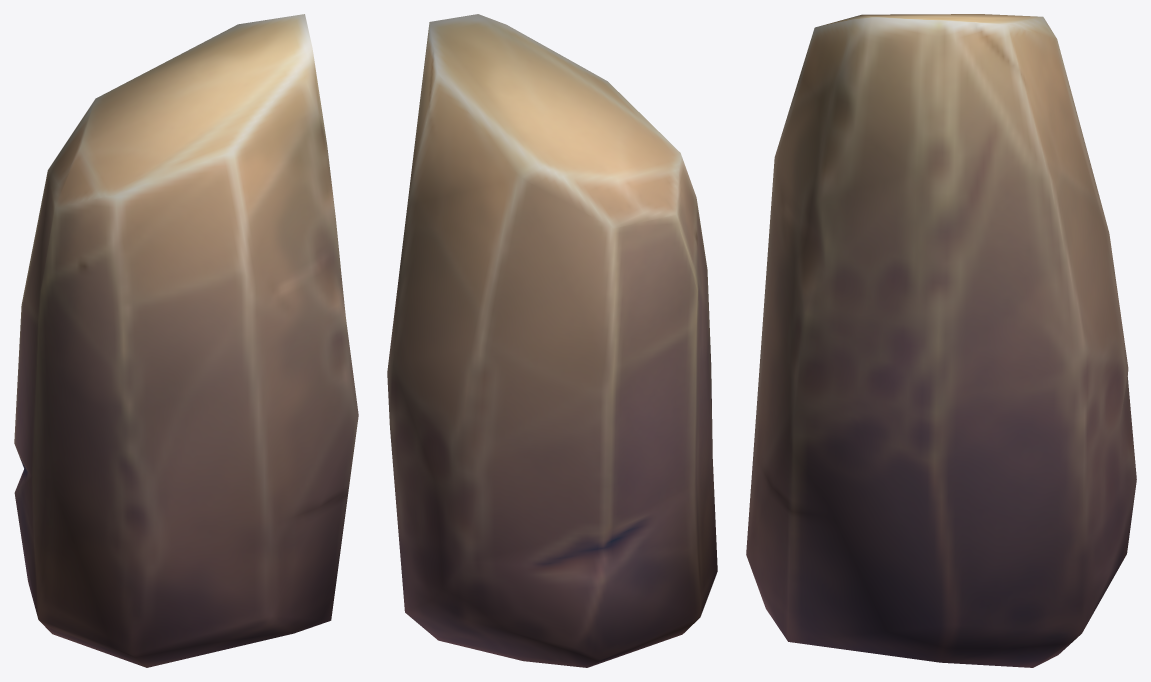
Rendered from SM_Gem_Moonstone_003.fbx.
3 views of the same model, side by side, from view 1: azimuth 30°, elevation 25°; view 2: azimuth 150°, elevation 25°; view 3: azimuth 270°, elevation 25° (orthographic). The views are drawn at different scales.
Visible parts, largest first — view 1: SM_Gem_Moonstone_003; view 2: SM_Gem_Moonstone_003; view 3: SM_Gem_Moonstone_003.
Part boxes in pixels (box(x1,y1,x2,y2)): SM_Gem_Moonstone_003: box(14, 14, 358, 667); SM_Gem_Moonstone_003: box(387, 14, 717, 667); SM_Gem_Moonstone_003: box(746, 14, 1136, 667).
Bounding box in the file's own units: 13.17 × 23.92 × 12.64.
